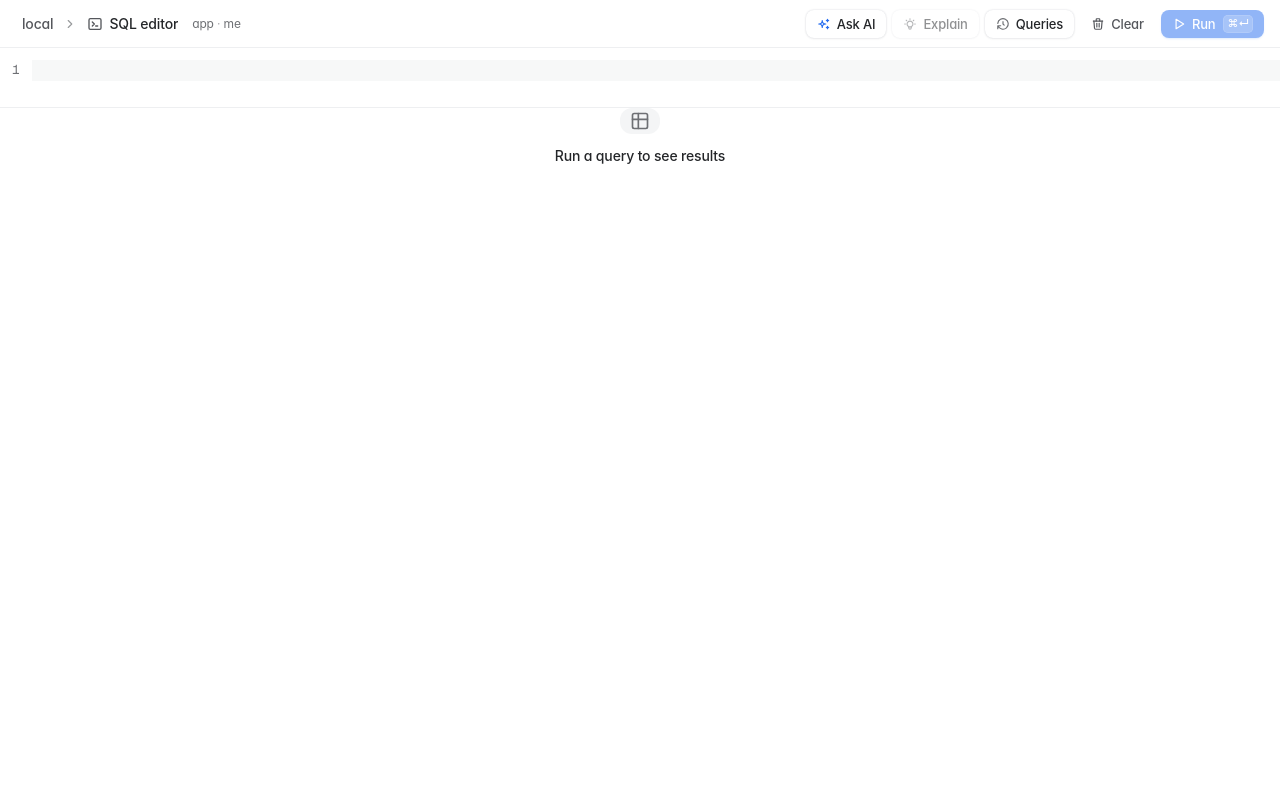
Scenario: generated SQL over an unsaved draft › says nothing when there was nothing to lose
Expected: the element with test id "sql-editor" is shown, [0,48,1279,107]
Click the button "Ask AI" at point(846, 24), box [806,10,886,38]
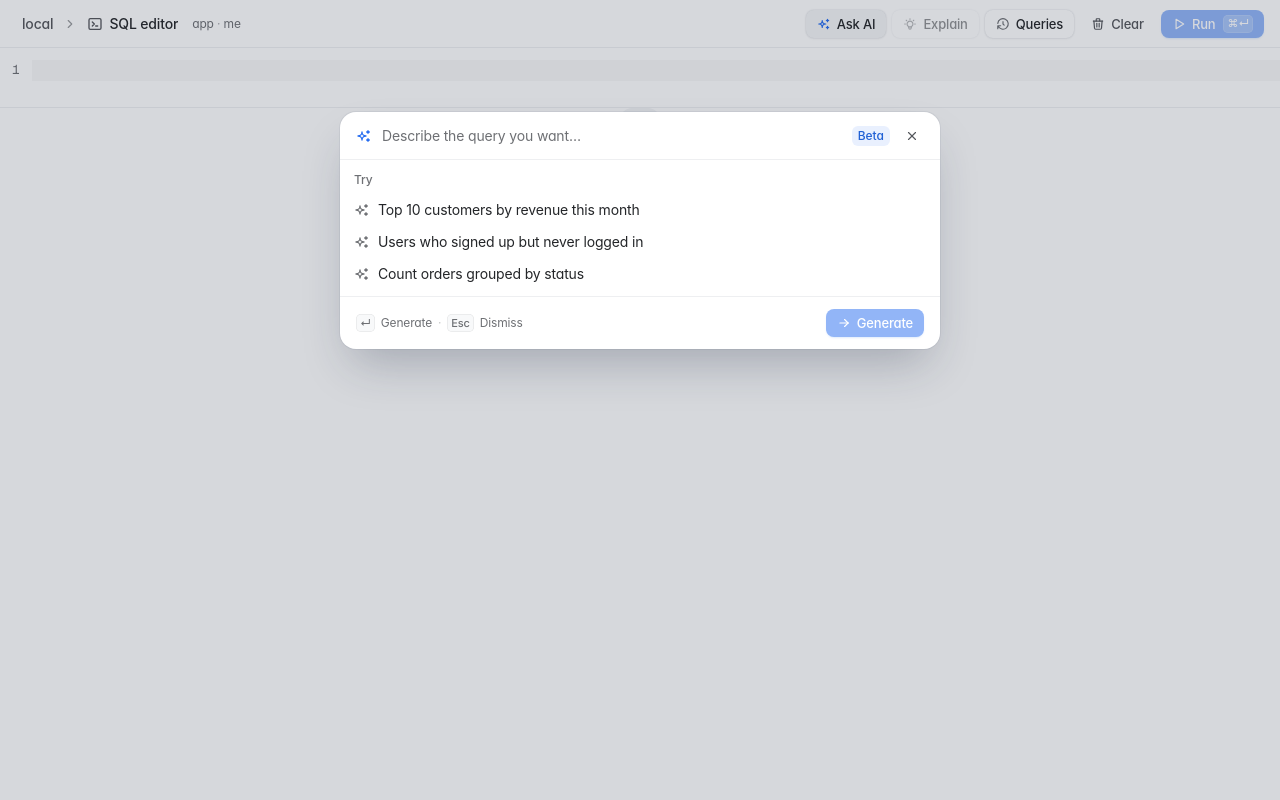
Type "all users" into the field with placeholder "Describe the query you want…" at point(612, 136), box [382,126,842,146]
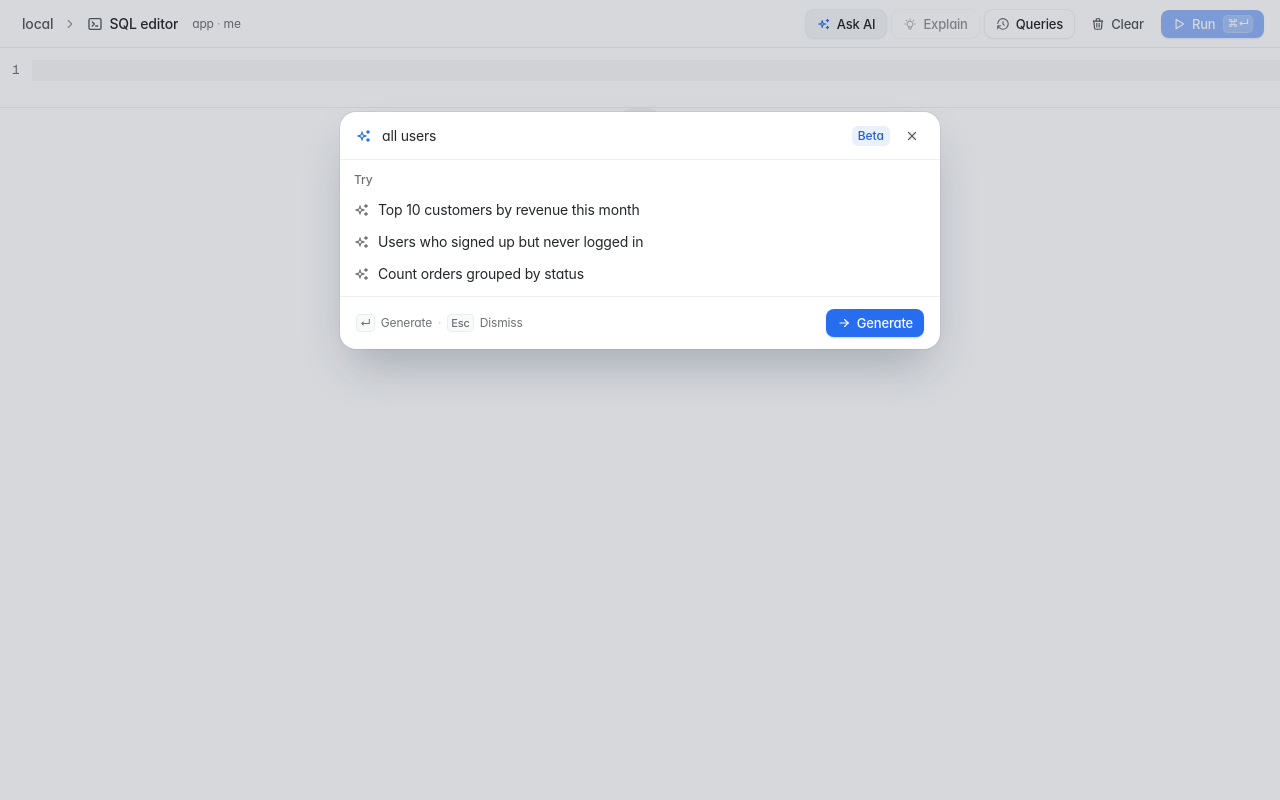
Press Enter in the field with placeholder "Describe the query you want…", box [382,126,842,146]
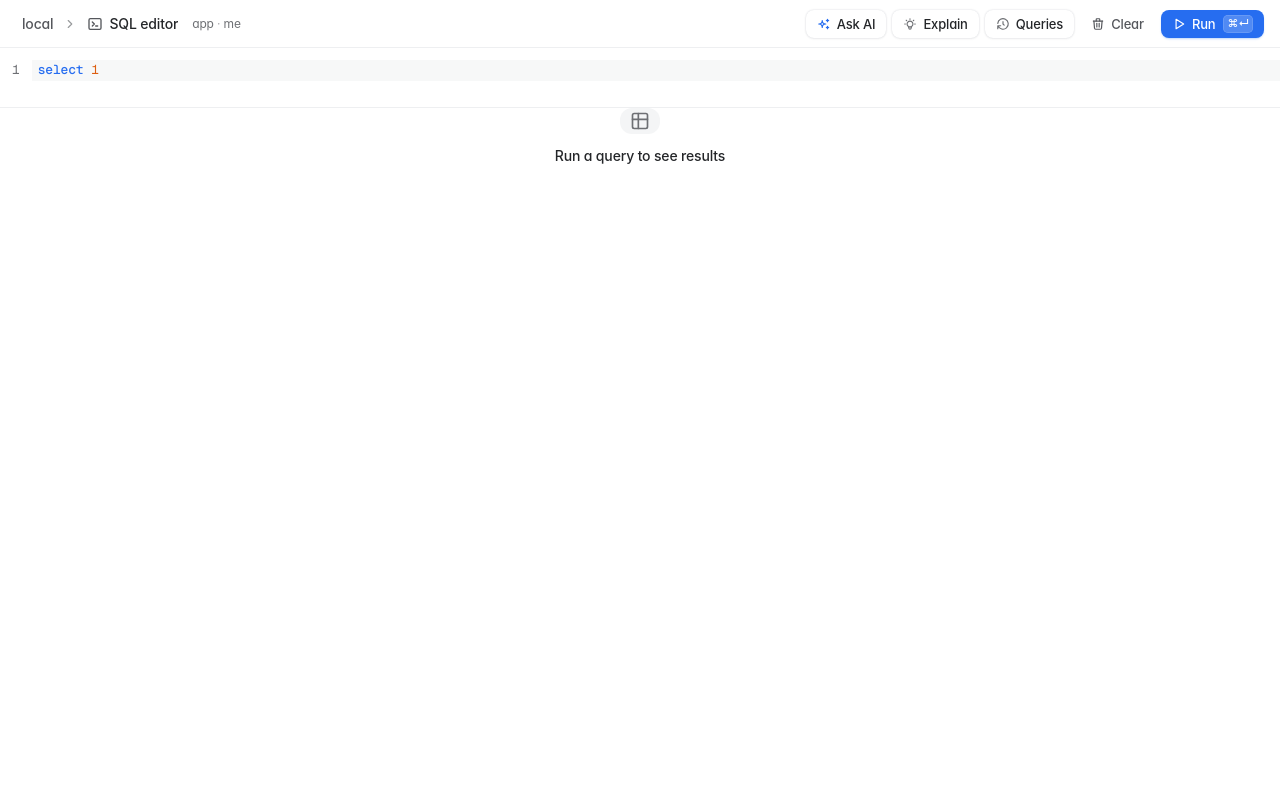
Expected: the text box labelled "select 1" is shown, [32,60,1279,81]
